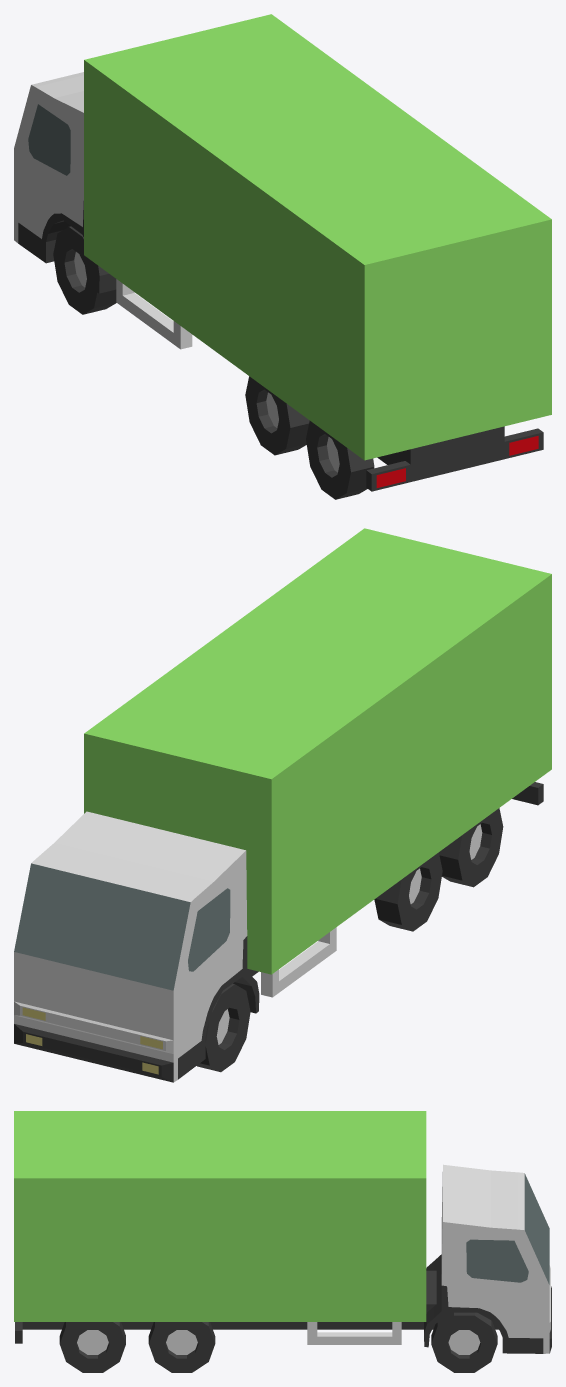
The model's file is Truck.fbx.
3 renders of one model, top to bottom at view 1: azimuth 30°, elevation 25°; view 2: azimuth 150°, elevation 25°; view 3: azimuth 270°, elevation 25°, orthographic. The views are drawn at different scales.
Parts seen in each view (by area): view 1: Cube.001, Cube; view 2: Cube.001, Cube; view 3: Cube.001, Cube.
Boxes of the visible parts, left/top/right/bottom form: Cube.001: left=84, top=14, right=551, bottom=460; Cube: left=14, top=72, right=543, bottom=499; Cube.001: left=84, top=528, right=551, bottom=974; Cube: left=14, top=782, right=543, bottom=1082; Cube.001: left=14, top=1111, right=426, bottom=1321; Cube: left=15, top=1164, right=551, bottom=1372.
Size of the model in its own units: 96 by 134 by 325.
